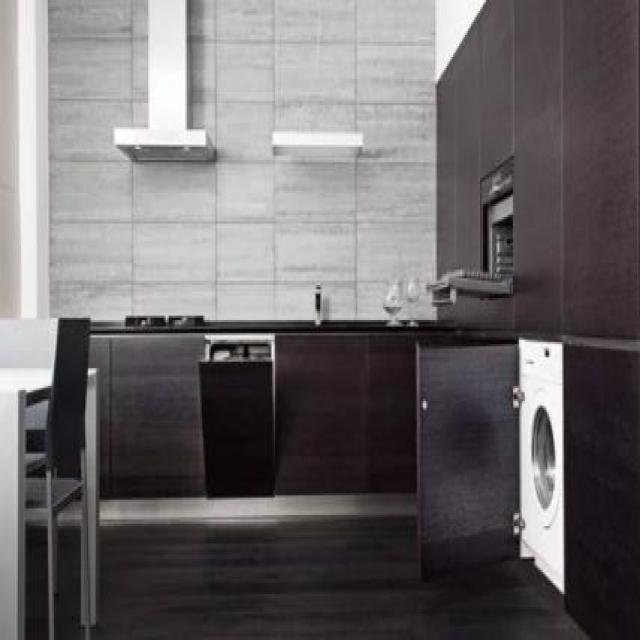dishwasher: (200, 336, 274, 496)
